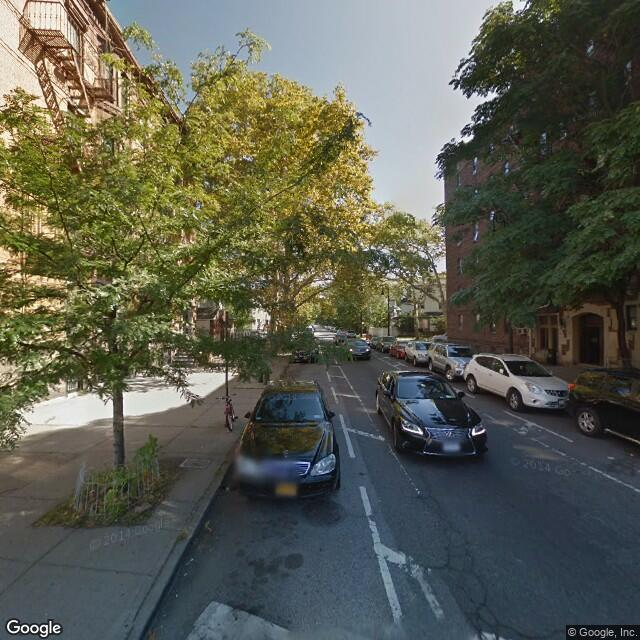litter: (183, 555, 199, 568), (203, 517, 213, 534), (628, 450, 637, 458), (606, 454, 614, 462), (223, 484, 229, 492)
